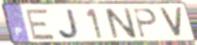1: (85, 7, 105, 40)
E: (24, 8, 57, 41)
J: (56, 8, 82, 41)
N: (103, 6, 140, 41)
P: (132, 7, 159, 40)
V: (157, 7, 184, 40)
